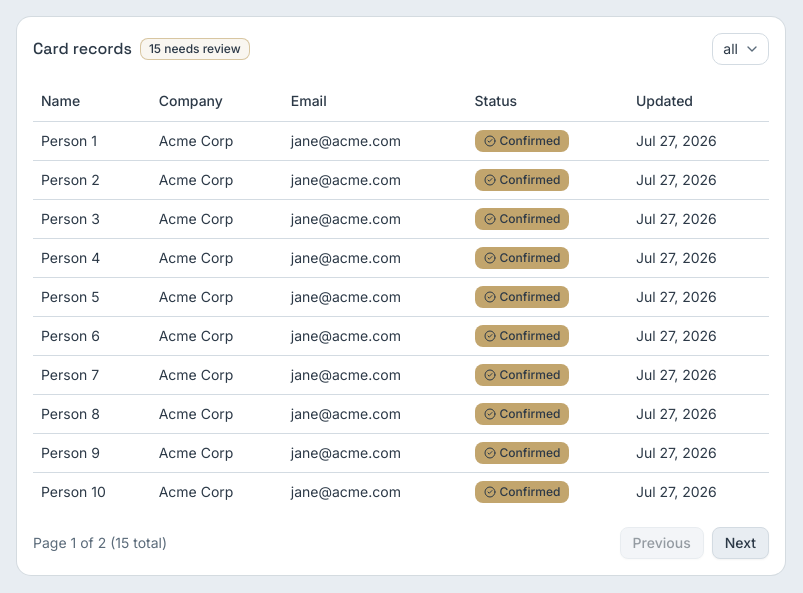
Scenario: CardsListPage — filter and pagination › paginates: Next/Previous move between pages and disable at the ends
Expected: the text "Page 1 of 2 (15 total)" is shown, [33,532,167,552]
Expected: the button "Previous" is disabled, [620,526,704,558]
Click the button "Next".
click(740, 542)  # box [712,526,769,558]
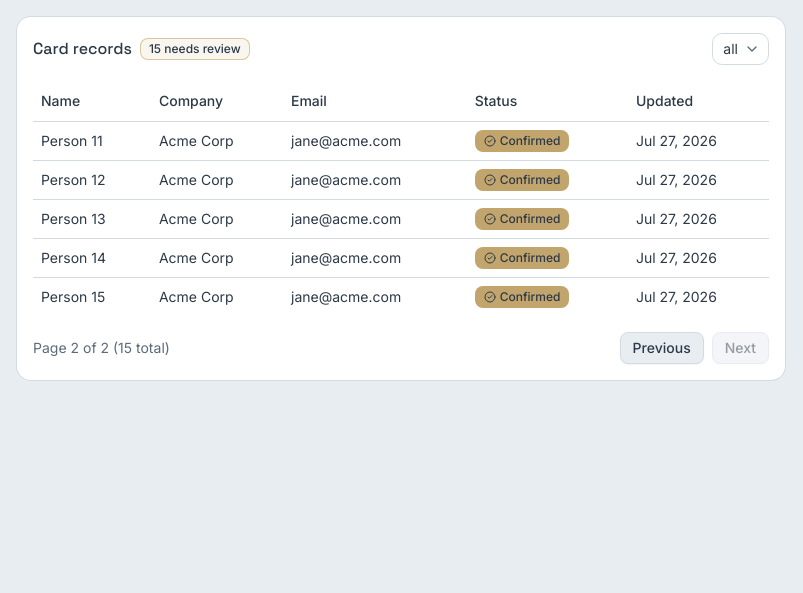
Expected: the text "Page 2 of 2 (15 total)" is shown, [33,338,170,358]
Expected: the text "Person 11" is shown, [33,121,151,160]
Expected: the button "Next" is disabled, [712,332,769,364]
